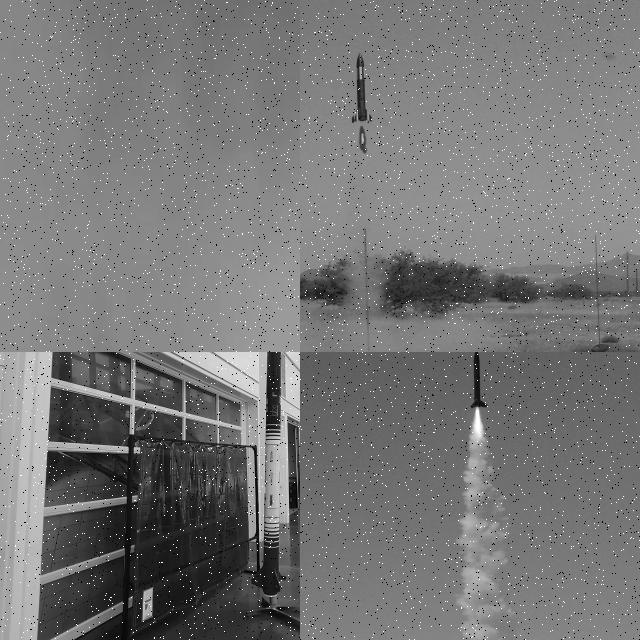Rocket: (251, 352, 282, 596), (352, 52, 372, 124), (469, 352, 488, 408)
